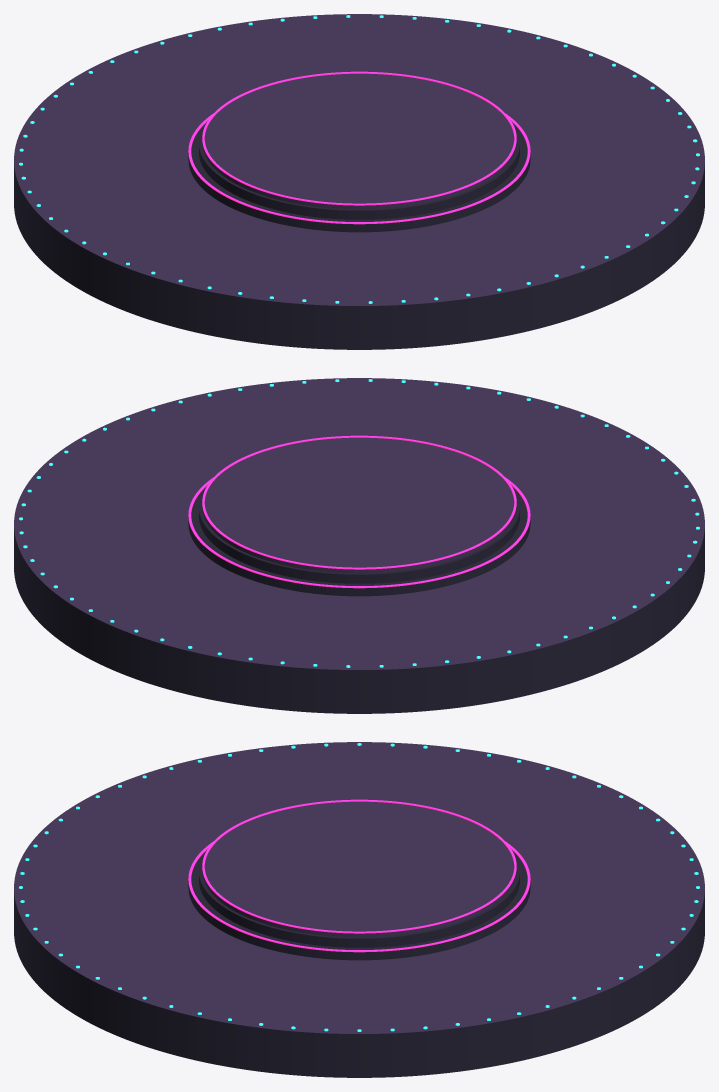
The model's file is ring-remake-R00-platforms.glb.
3 renders of one model, top to bottom at view 1: azimuth 30°, elevation 25°; view 2: azimuth 150°, elevation 25°; view 3: azimuth 270°, elevation 25°, orthographic.
Visible parts, largest first — view 1: P_OUT_single_closed_body, P_IN_performance_disc, P_IN_lower_base, P_IN_text_waist_placeholder, P_TOP_edge_lip, P_BASE_edge_lip; view 2: P_OUT_single_closed_body, P_IN_performance_disc, P_IN_lower_base, P_IN_text_waist_placeholder, P_TOP_edge_lip, P_BASE_edge_lip; view 3: P_OUT_single_closed_body, P_IN_performance_disc, P_IN_lower_base, P_IN_text_waist_placeholder, P_TOP_edge_lip, P_BASE_edge_lip.
Boxes of the visible parts, x1=… form: P_OUT_single_closed_body: x1=14, y1=14, x2=704, y2=349; P_IN_performance_disc: x1=202, y1=73, x2=516, y2=209; P_IN_lower_base: x1=188, y1=123, x2=530, y2=232; P_IN_text_waist_placeholder: x1=199, y1=121, x2=519, y2=219; P_TOP_edge_lip: x1=202, y1=71, x2=516, y2=205; P_BASE_edge_lip: x1=188, y1=113, x2=530, y2=224; P_OUT_single_closed_body: x1=14, y1=378, x2=704, y2=713; P_IN_performance_disc: x1=202, y1=437, x2=516, y2=573; P_IN_lower_base: x1=188, y1=487, x2=530, y2=596; P_IN_text_waist_placeholder: x1=199, y1=485, x2=519, y2=583; P_TOP_edge_lip: x1=202, y1=435, x2=516, y2=569; P_BASE_edge_lip: x1=188, y1=477, x2=530, y2=588; P_OUT_single_closed_body: x1=14, y1=742, x2=704, y2=1077; P_IN_performance_disc: x1=202, y1=801, x2=516, y2=937; P_IN_lower_base: x1=188, y1=851, x2=530, y2=960; P_IN_text_waist_placeholder: x1=199, y1=849, x2=519, y2=947; P_TOP_edge_lip: x1=202, y1=799, x2=516, y2=933; P_BASE_edge_lip: x1=188, y1=841, x2=530, y2=952.
Bounding box in the file's own units: 20 × 2.1 × 20.
